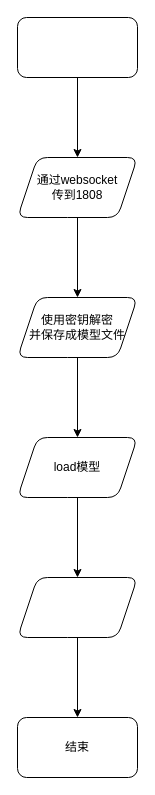
The diagram is 155 pixels wide and 795 high, and some of its shapes have lost their labels. Each missing label, with the centre of its shape:
删除解密模型: the point at 77,607
模型解密: the point at 77,47
